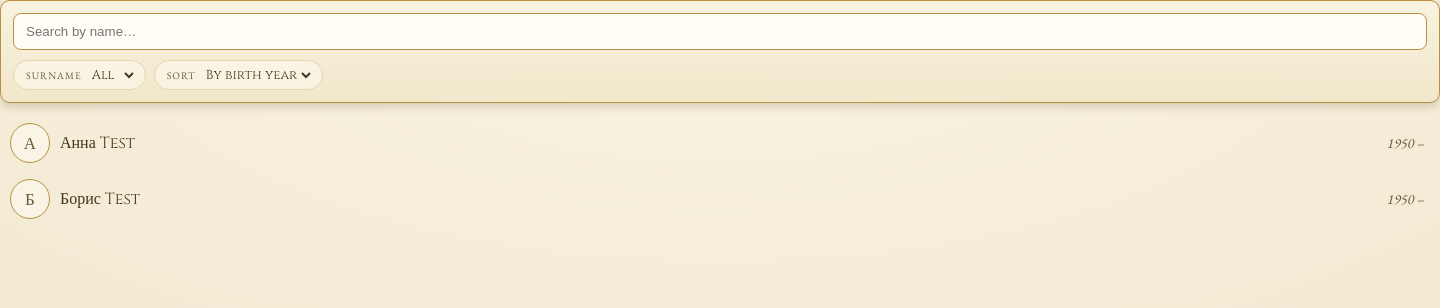
Test: MembersIndex › filters by the search query
In the search field with test id "members-search": (720,32) 13,13 -> 1427,50, type "Анна"
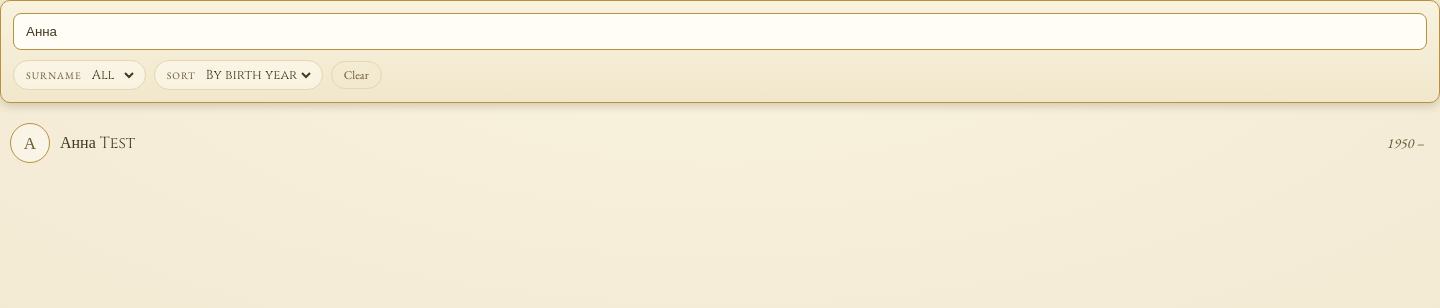
Check: the number of options with test id "member-row" is 1, box 0,115 -> 1434,171
